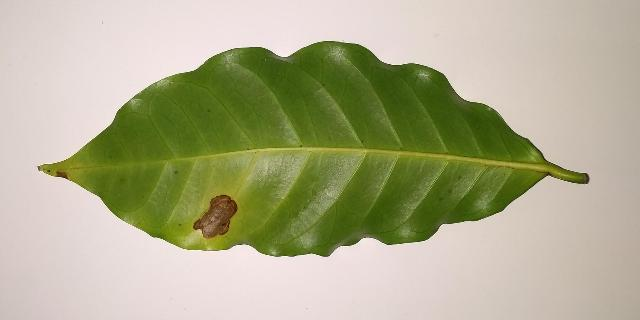rust: (193, 195, 237, 238), (54, 171, 70, 181)
